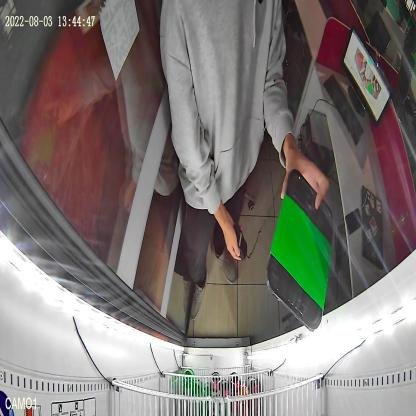green: (266, 168, 334, 332)
